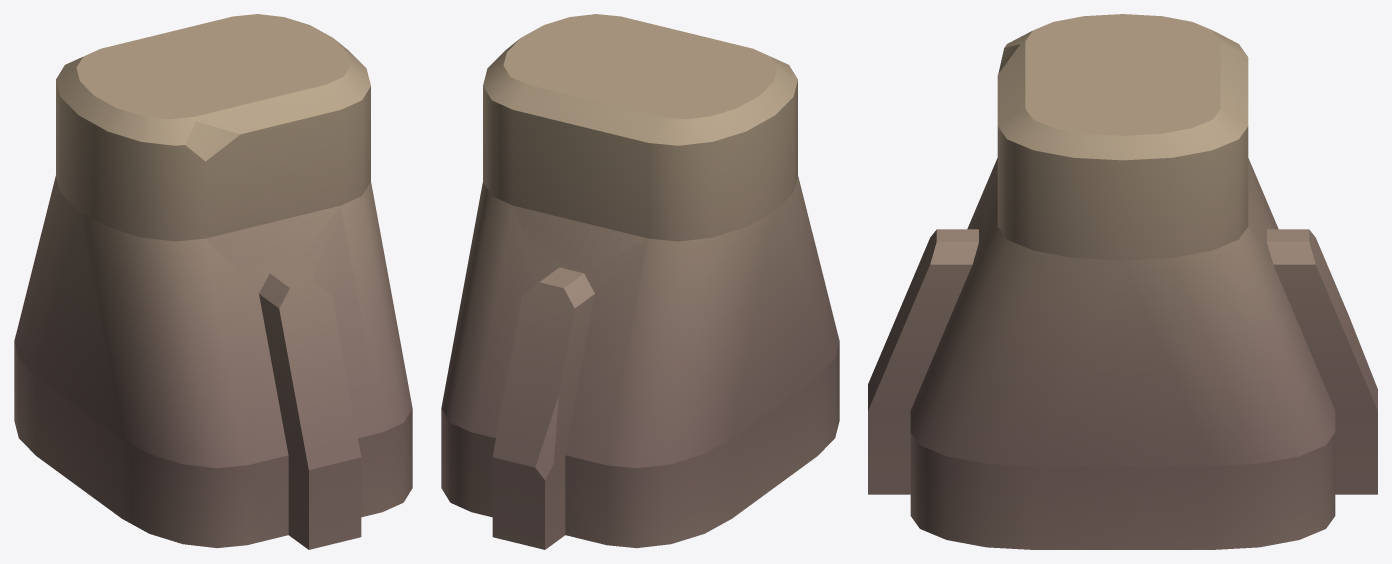
File: WallSection_Medium_connector01.fbx
The picture shows the model from 3 angles, left to right: view 1: azimuth 30°, elevation 25°; view 2: azimuth 150°, elevation 25°; view 3: azimuth 270°, elevation 25°; orthographic projection. The views are drawn at different scales.
Visible parts, largest first — view 1: WallSection_Medium_connector01; view 2: WallSection_Medium_connector01; view 3: WallSection_Medium_connector01.
Part boxes in pixels (left/top/right/bottom): WallSection_Medium_connector01: left=14, top=14, right=412, bottom=549; WallSection_Medium_connector01: left=441, top=14, right=839, bottom=549; WallSection_Medium_connector01: left=868, top=14, right=1377, bottom=549.
Size of the model in its own units: 230 by 317 by 360.
